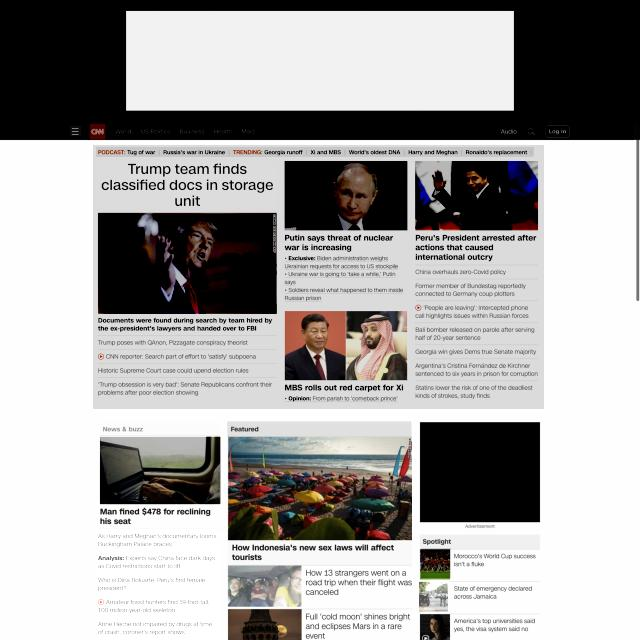CheckBox: (545, 125, 571, 138)
QR code: (98, 529, 222, 640), (98, 147, 536, 157)
TextView: (93, 145, 546, 409)
bag: (0, 0, 634, 140)
breadcrumbs: (227, 421, 411, 437), (99, 422, 220, 435)
carousel: (71, 126, 80, 136), (527, 127, 536, 137)
copy: (229, 437, 413, 541), (100, 212, 279, 314), (286, 310, 411, 380), (286, 160, 410, 230), (417, 161, 540, 229), (100, 437, 221, 504), (228, 565, 302, 607), (419, 580, 452, 612), (421, 548, 451, 578)
data feed: (548, 129, 568, 135)
date picker: (88, 122, 106, 140)
decoration: (115, 126, 260, 138), (70, 126, 81, 136)
image: (98, 162, 278, 207)
